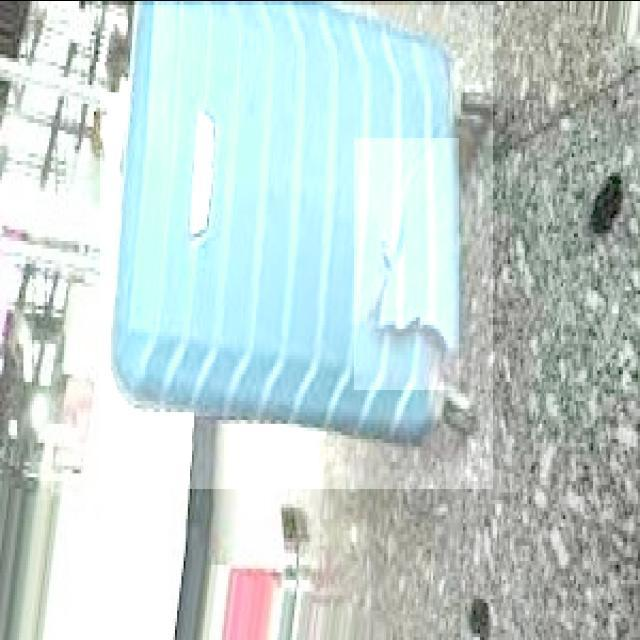Damage-bag: (355, 200, 459, 388)
